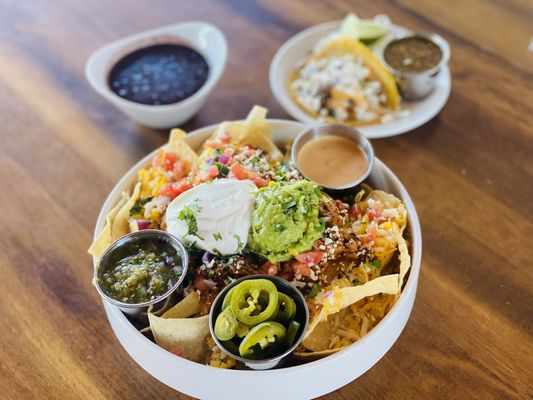curry: (247, 179, 327, 263)
sushi: (88, 104, 447, 399), (268, 13, 451, 135), (85, 20, 229, 131), (209, 274, 311, 370), (93, 229, 191, 328), (289, 121, 374, 194), (383, 33, 450, 102)
